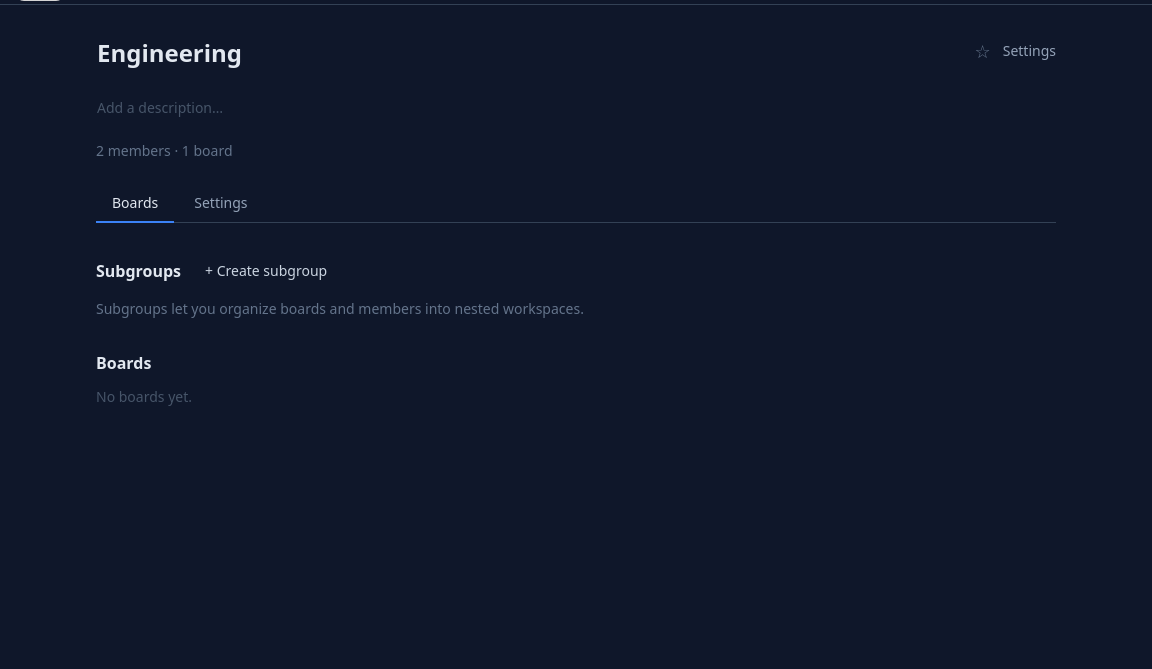
Scenario: GroupDetail › surfaces an error and keeps the label when label removal fails (#1386)
Click the 1st button "Settings".
click(1029, 51)  # box [1003,41,1056,61]
(page scrolled)
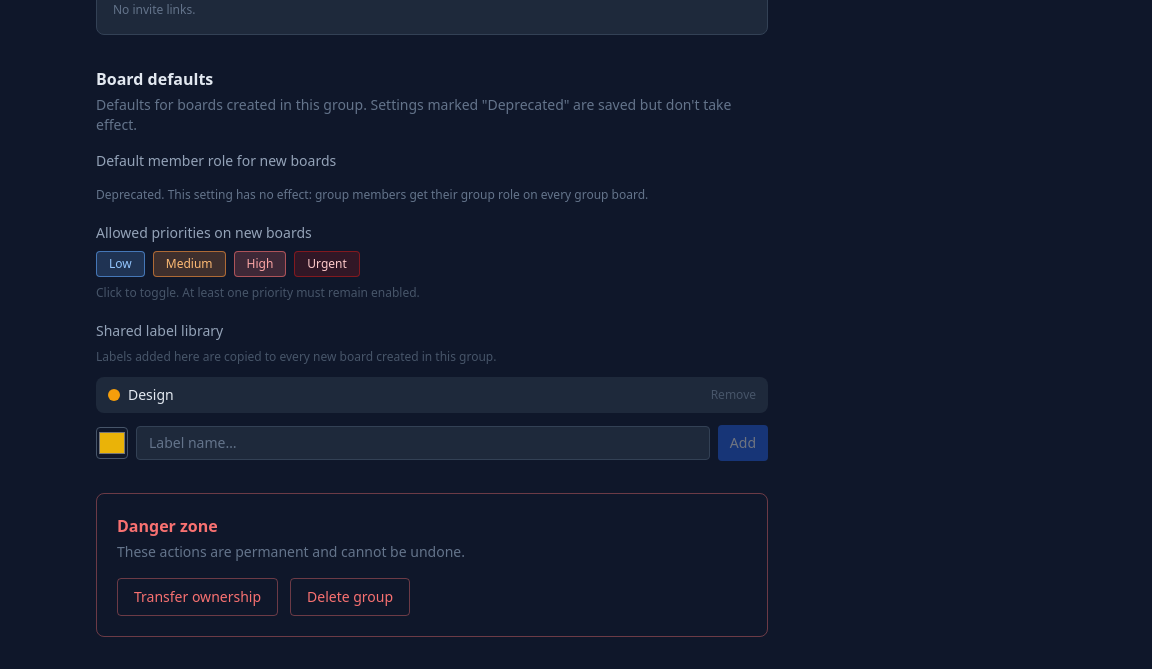
Expected: the text "Design" is shown, [128,385,174,404]
Click the button with aria-label "Remove Design from group".
click(733, 395)  # box [711,387,756,403]
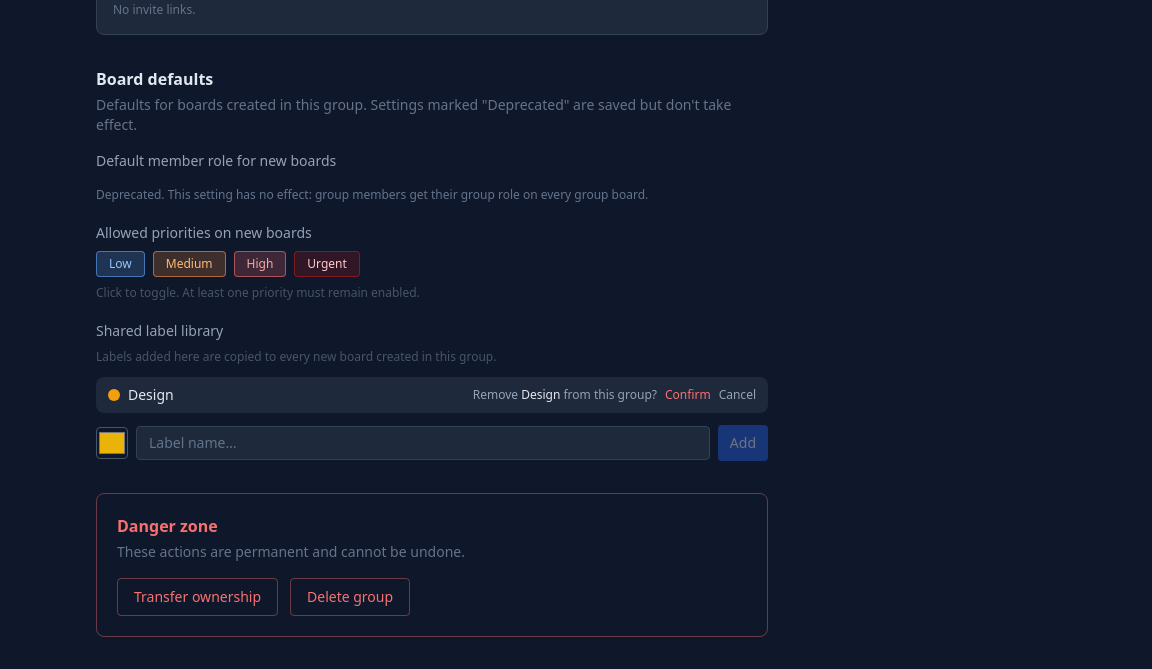
Click the button "Confirm".
click(688, 395)  # box [665,387,711,403]
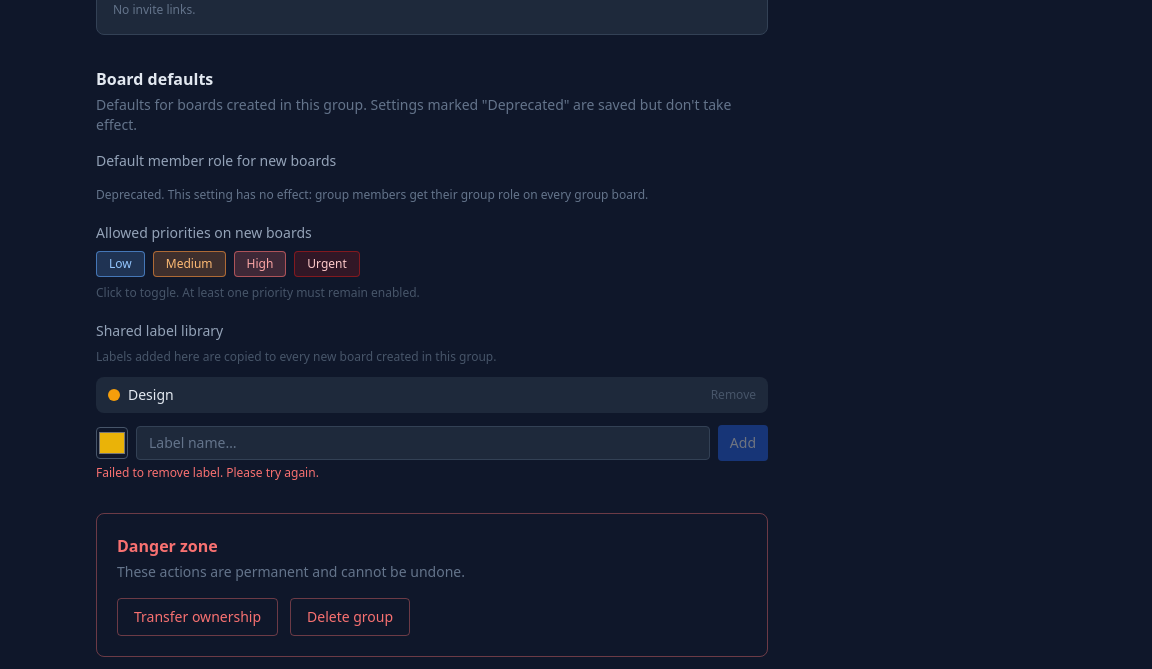
Expected: the text "Design" is shown, [128,385,174,404]
Expected: the message reads "Failed to remove label. Please try again.", [96,464,319,481]
